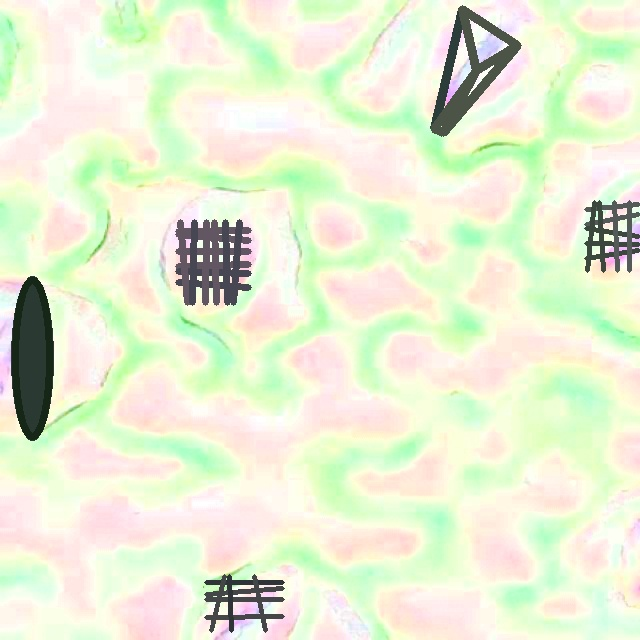open: (430, 5, 521, 136), (11, 276, 53, 440), (176, 219, 251, 304), (205, 575, 283, 632), (585, 200, 640, 272)
